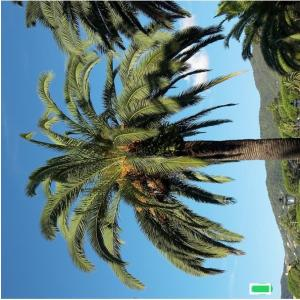palm tree: (12, 0, 299, 292)
